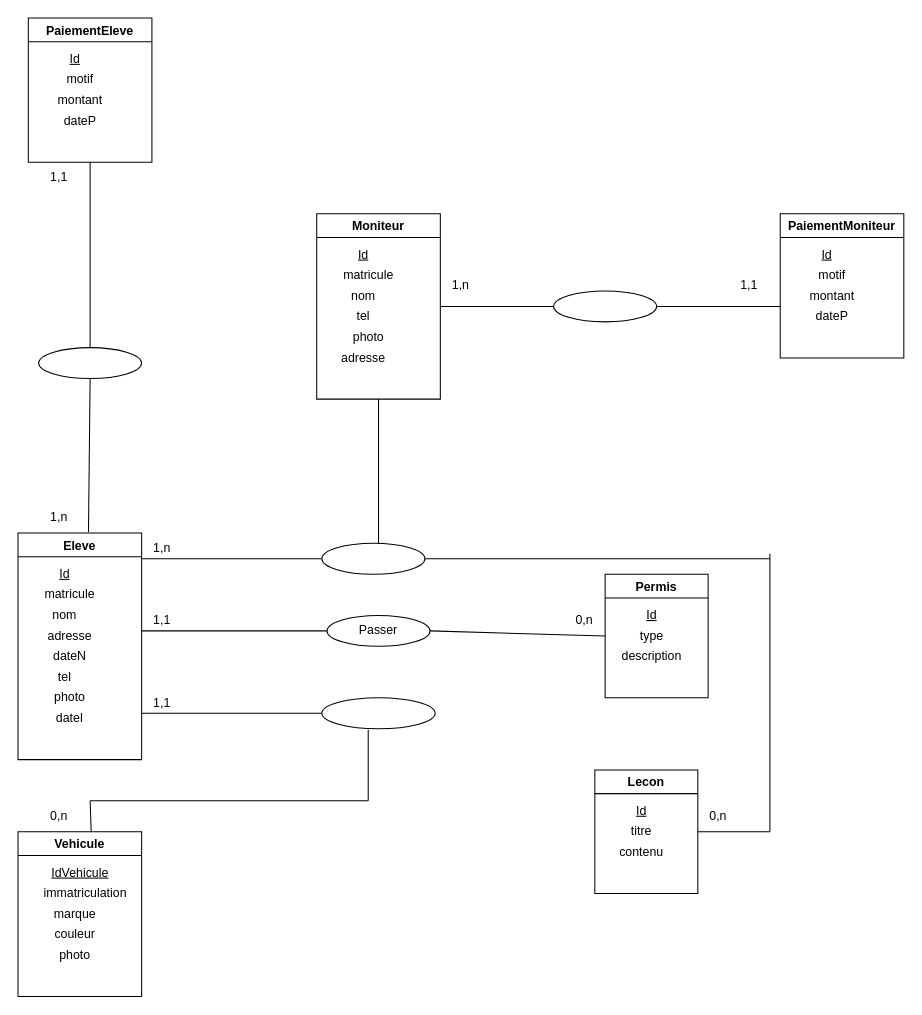
Some shapes in this 922 by 1015 pixel diagram are drawn without their labels. The shapes that lost their labels are listed below. From the top down, each one's centre as x and y in pixels, then its label:
At point 605,306: "Recevoir".
At point 90,363: "Effectuer".
At point 373,558: "Suivre".
At point 378,713: "Apprendre".
